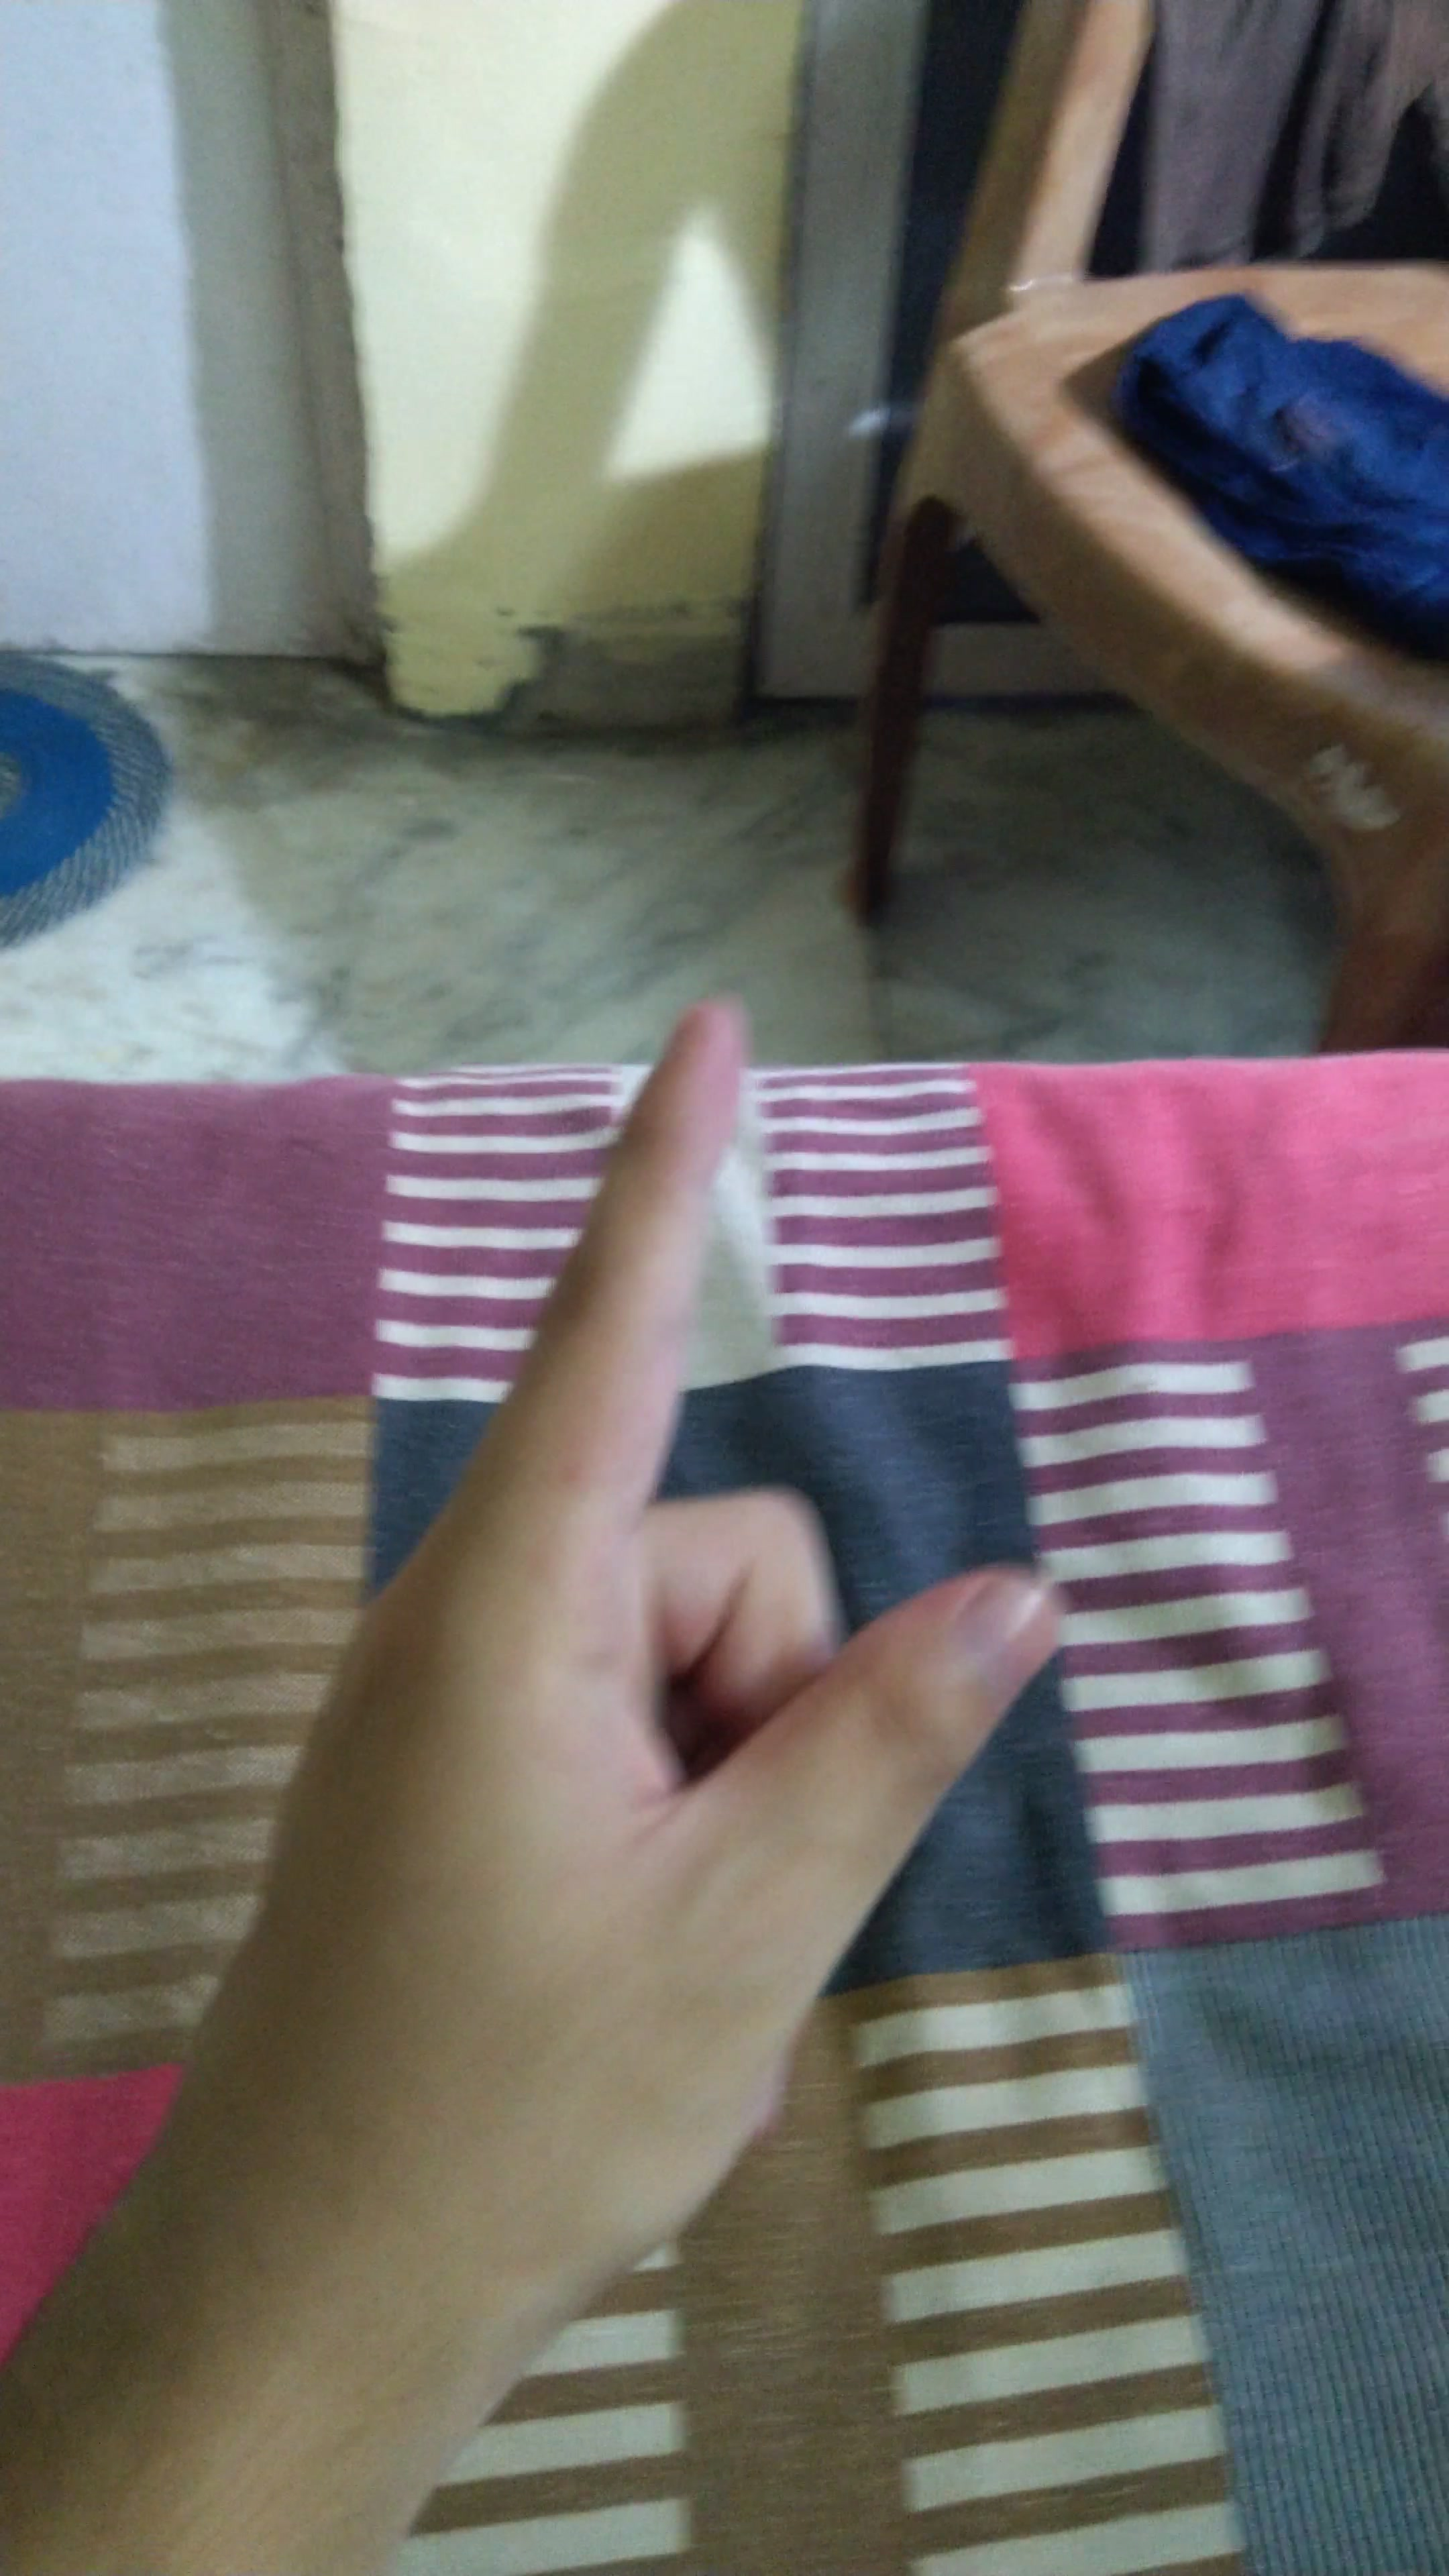hand: (203, 977, 1164, 2314)
